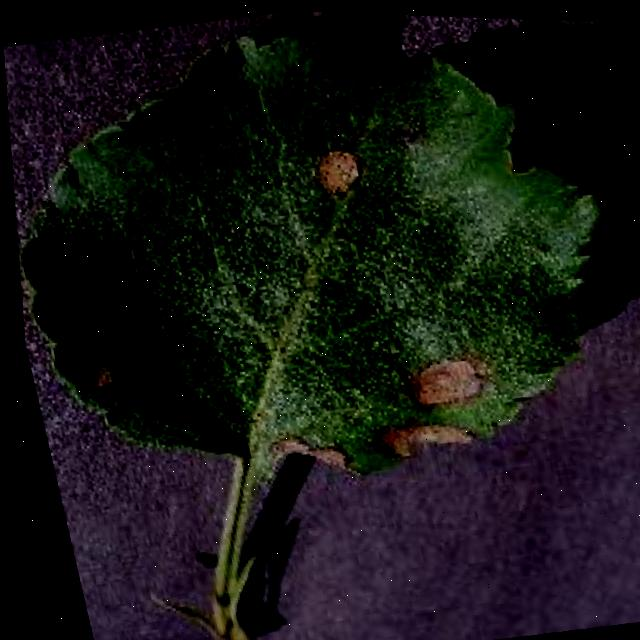black_rot: (388, 339, 494, 418), (366, 404, 491, 467), (293, 122, 372, 211), (269, 416, 356, 481), (83, 349, 127, 399)
